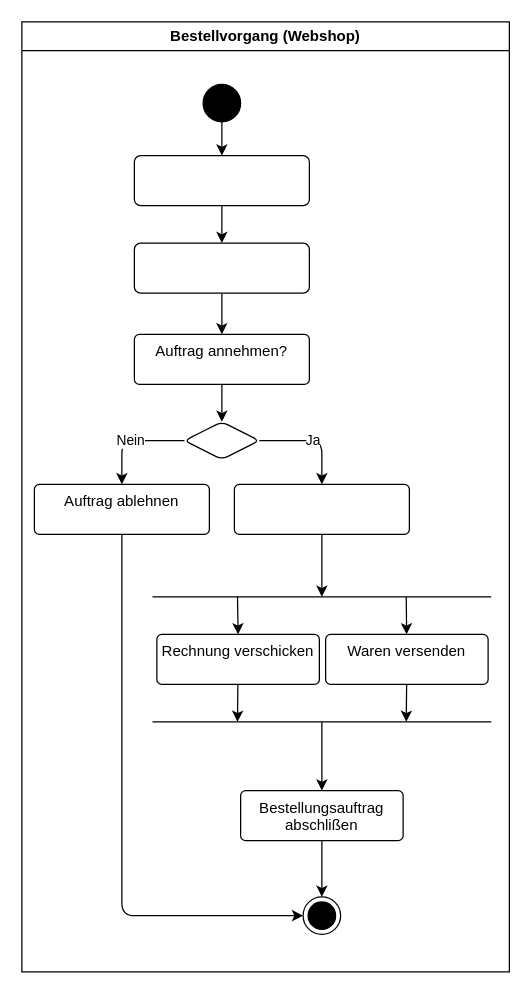
Image size: 531x994. Some labels were removed from this diagram. Here are the shapes that lost their labels. From the top down, the box of each, then its label:
(133, 154, 309, 206): Bestellungsauftrag empfangen
(133, 242, 309, 293): Bestellungsauftrag prüfen
(233, 483, 409, 534): Auftrag bearbeiten
